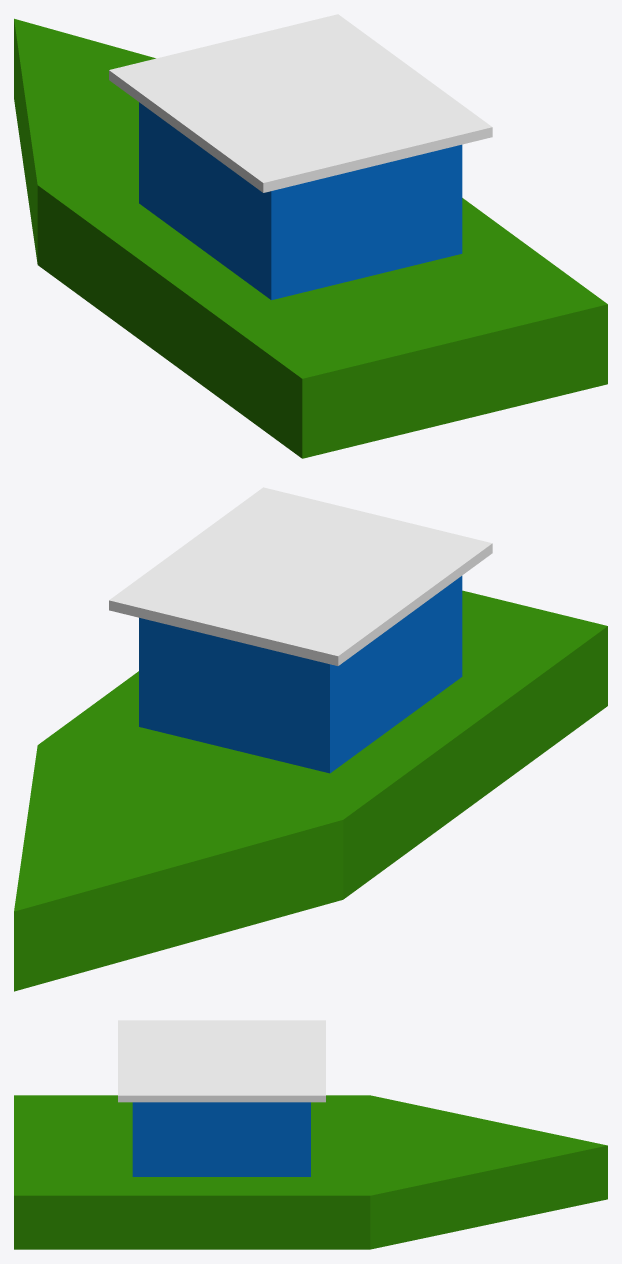
The model's file is boat_2.glb.
The picture shows the model from 3 angles, top to bottom: view 1: azimuth 30°, elevation 25°; view 2: azimuth 150°, elevation 25°; view 3: azimuth 270°, elevation 25°; orthographic projection. The views are drawn at different scales.
Bounding box in the file's own units: 1.6 × 1.05 × 4.
